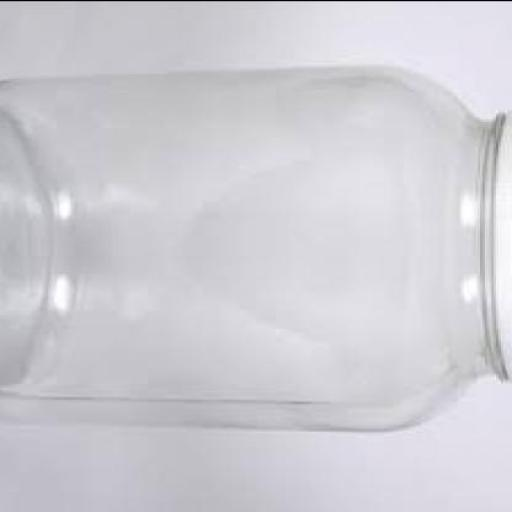glass: (2, 59, 504, 426)
